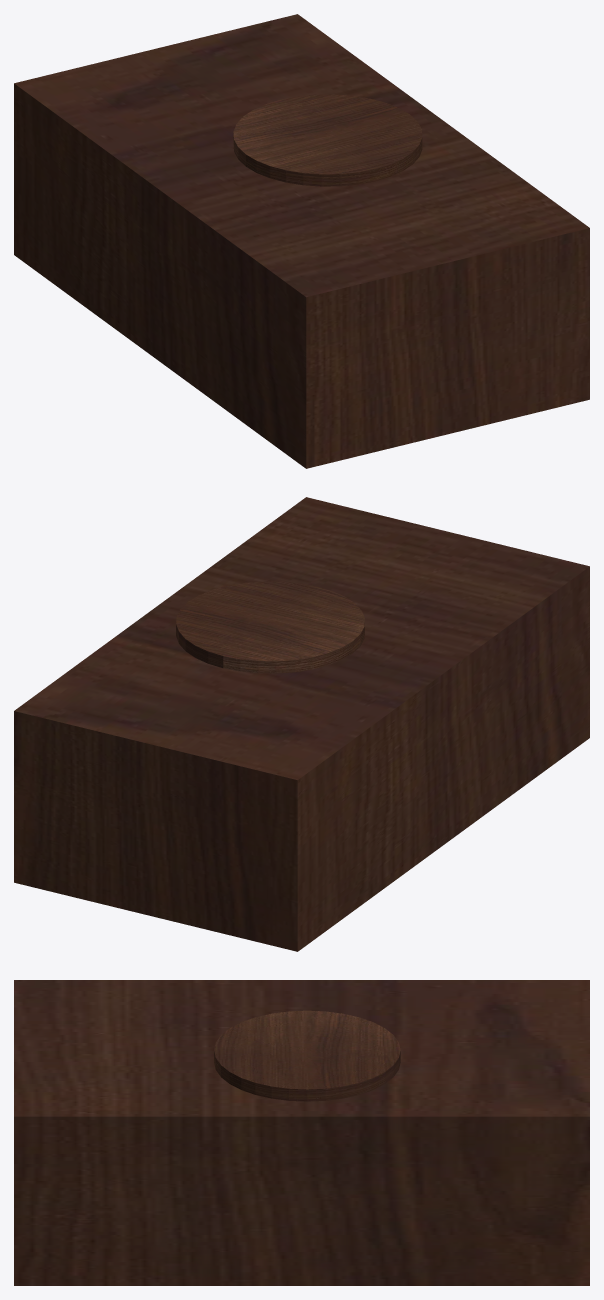
File: Toilet.glb
3 views of the same model, one above another, from view 1: azimuth 30°, elevation 25°; view 2: azimuth 150°, elevation 25°; view 3: azimuth 270°, elevation 25° (orthographic).
Parts seen in each view (by area): view 1: Cube, Cylinder; view 2: Cube, Cylinder; view 3: Cube, Cylinder.
Boxes of the visible parts, left/top/right/bottom form: Cube: left=14, top=14, right=589, bottom=468; Cylinder: left=233, top=94, right=422, bottom=186; Cube: left=14, top=497, right=589, bottom=951; Cylinder: left=176, top=581, right=364, bottom=673; Cube: left=14, top=980, right=589, bottom=1285; Cylinder: left=214, top=1010, right=400, bottom=1101.
Bounding box in the file's own units: 3.46 × 2.14 × 6.17.
Materials: 1 (1 with a texture image).
